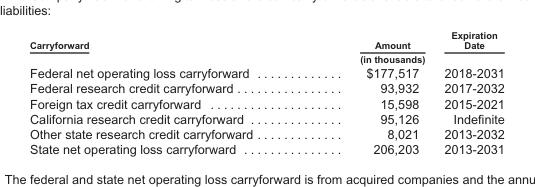table: (28, 29, 503, 155)
table column: (28, 29, 306, 155), (306, 29, 433, 155), (433, 29, 503, 155)
table column header: (28, 29, 503, 64)
table row: (28, 29, 503, 64), (28, 64, 503, 80), (28, 80, 503, 95), (28, 95, 503, 110), (28, 110, 503, 125), (28, 125, 503, 140), (28, 140, 503, 155)
